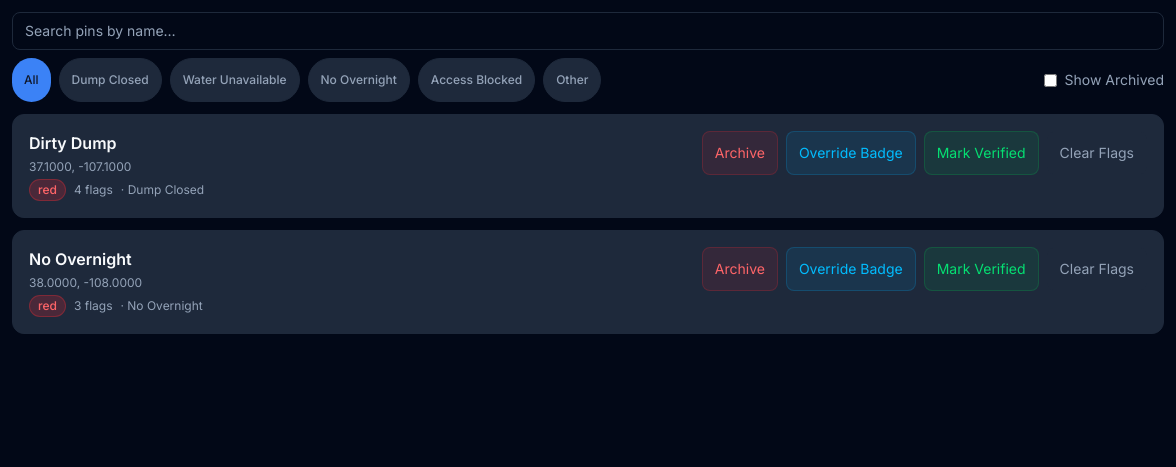
Test: FlaggedPinList › "Show Archived" toggle controls archived pin visibility
The image size is (1176, 467).
Check: the text "Dirty Dump" is shown, box [29,133,117,153]
Check: the text "Archived Spot" is not shown
Note: Toggle show archived
Step 1. Click the checkbox labelled "Show Archived" → (1050, 80), box [1044,74,1056,86]
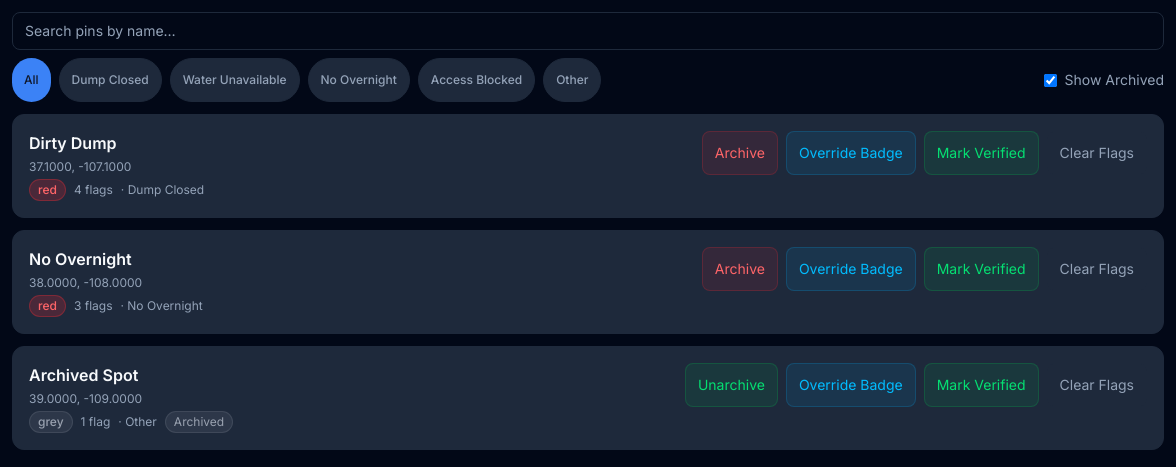
Check: the text "Archived Spot" is shown, box [29,365,138,385]
